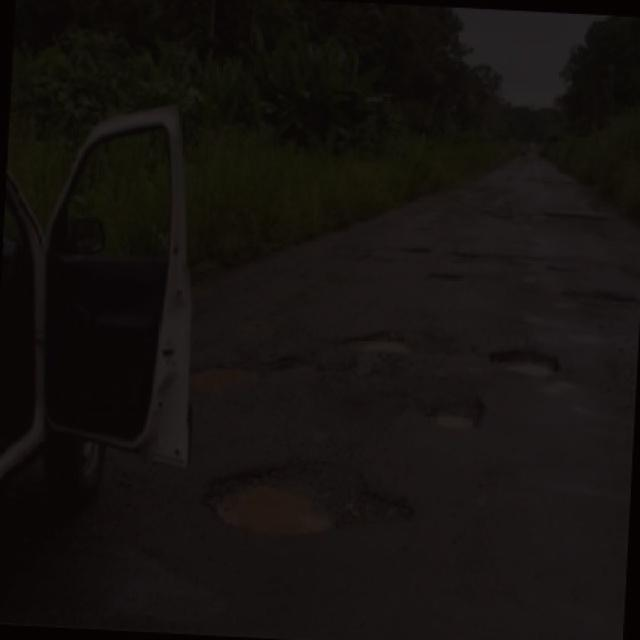Pothole: (202, 454, 432, 554), (187, 342, 315, 403), (332, 318, 422, 372), (488, 336, 574, 390), (421, 386, 497, 436), (556, 285, 640, 322), (410, 262, 478, 290), (544, 202, 612, 229), (389, 243, 432, 259), (449, 250, 482, 262)
